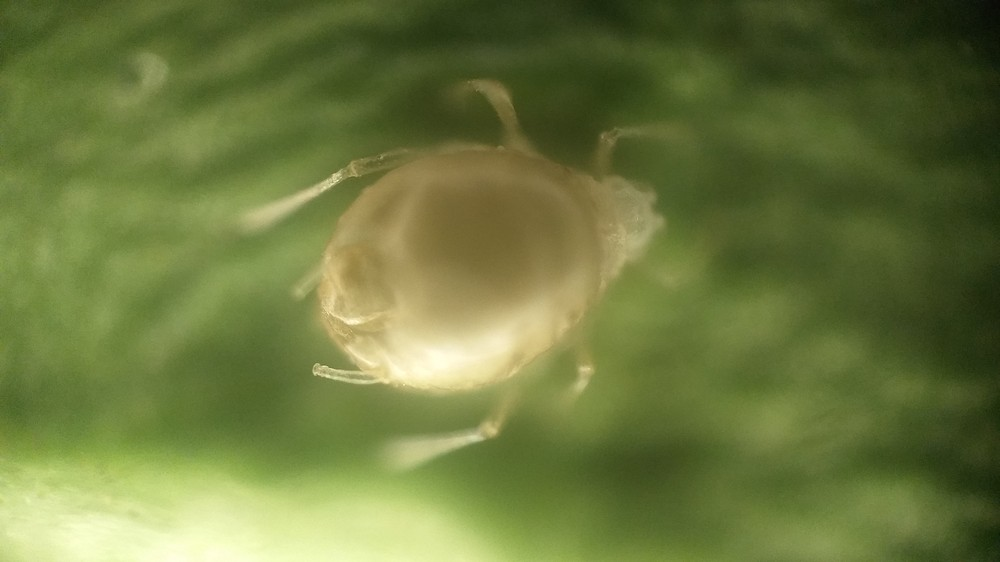Pulgon: (223, 66, 782, 513)
